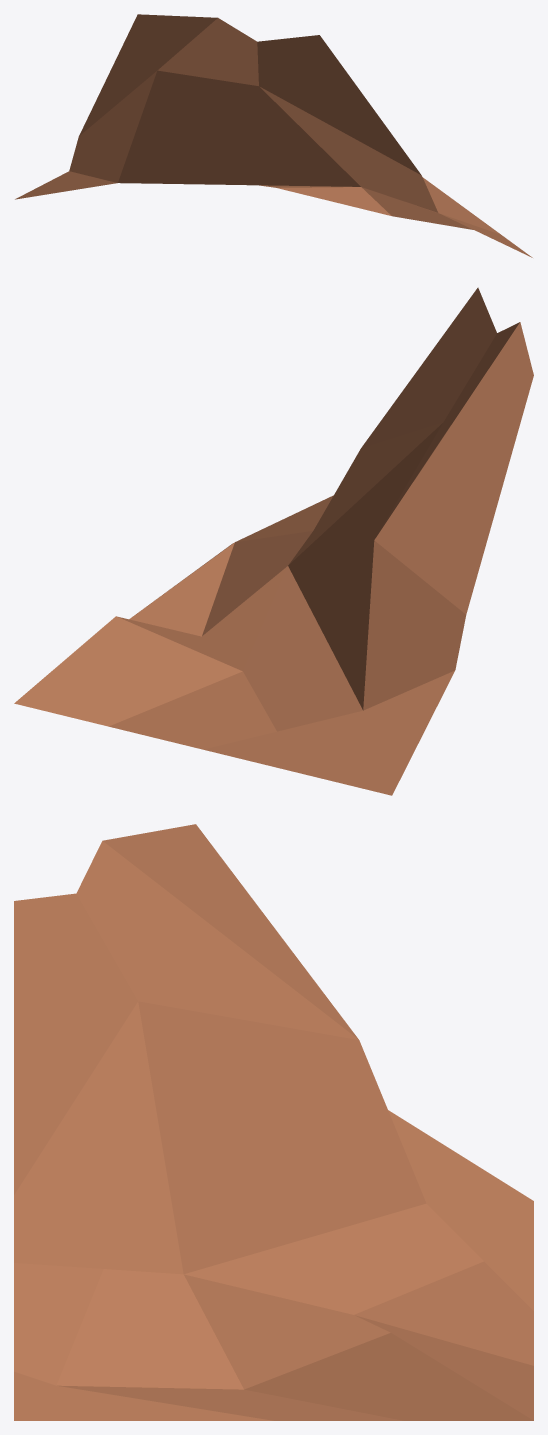
Rendered from Corner Bottom Inverted.fbx.
The picture shows the model from 3 angles, top to bottom: view 1: azimuth 30°, elevation 25°; view 2: azimuth 150°, elevation 25°; view 3: azimuth 270°, elevation 25°; orthographic projection. The views are drawn at different scales.
Parts seen in each view (by area): view 1: Corner Bottom Inverted; view 2: Corner Bottom Inverted; view 3: Corner Bottom Inverted.
Boxes of the visible parts, left/top/right/bottom form: Corner Bottom Inverted: left=15, top=14, right=532, bottom=257; Corner Bottom Inverted: left=14, top=287, right=533, bottom=795; Corner Bottom Inverted: left=14, top=824, right=533, bottom=1420.
Size of the model in its own units: 50 by 42.26 by 50.
